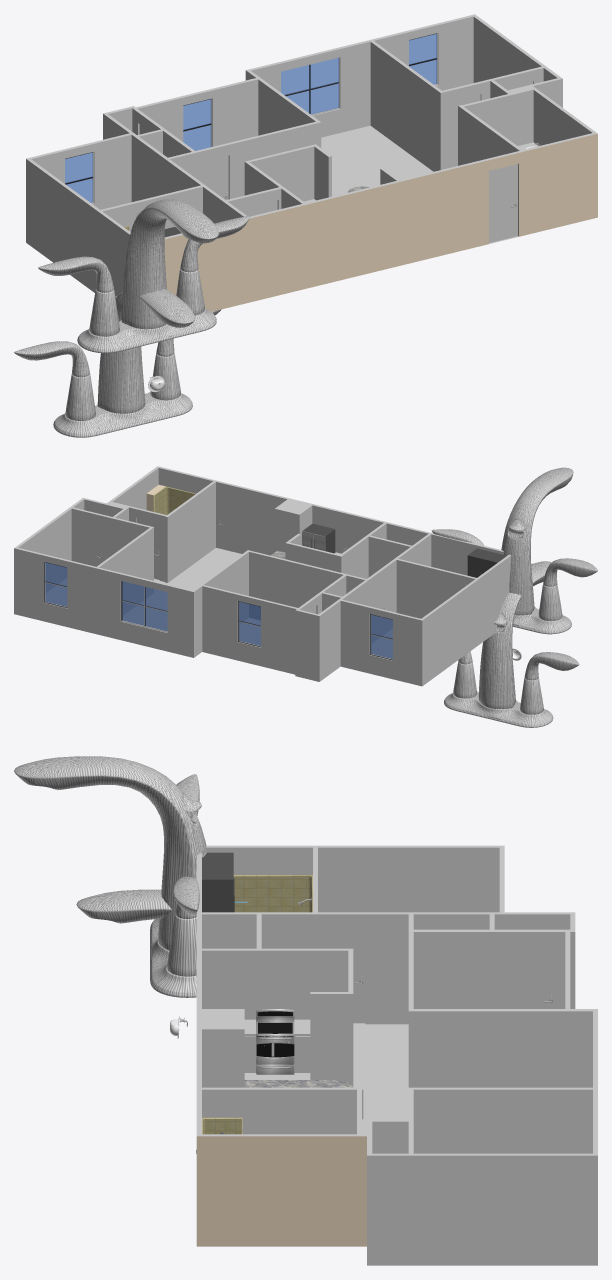
The model's file is 3+bedroom.glb.
3 views of the same model, one above another, from view 1: azimuth 30°, elevation 25°; view 2: azimuth 150°, elevation 25°; view 3: azimuth 270°, elevation 25° (orthographic). The views are drawn at different scales.
Parts seen in each view (by area): view 1: _(Loose Entity), skp9E55, 5316-4, C-Component#10, C-small window.002, C-small window, C-small window.001; view 2: _(Loose Entity), 5316-4, skp9E55, C-Component#10, C-small window.001, C-small window.002, C-small window, C-Shower, G-.013, G-Object.022; view 3: _(Loose Entity), skp9E55, C-Shower.001, 5316-4, G-.013, G-Object.018, G-Object.015, C-Shower.
Boxes of the visible parts, box(x1,y1,x2,y2) form: _(Loose Entity): box(26, 14, 597, 311); skp9E55: box(38, 199, 249, 353); 5316-4: box(14, 289, 221, 437); C-Component#10: box(280, 57, 340, 115); C-small window.002: box(183, 98, 212, 150); C-small window: box(408, 33, 438, 85); C-small window.001: box(64, 151, 94, 204); _(Loose Entity): box(14, 466, 511, 686); 5316-4: box(444, 561, 579, 727); skp9E55: box(431, 467, 597, 634); C-Component#10: box(120, 580, 167, 632); C-small window.001: box(369, 614, 393, 660); C-small window.002: box(237, 601, 261, 647); C-small window: box(44, 562, 67, 608); C-Shower: box(153, 486, 195, 514); G-.013: box(467, 548, 499, 577); G-Object.022: box(303, 523, 335, 553); _(Loose Entity): box(196, 845, 597, 1265); skp9E55: box(14, 756, 206, 997); C-Shower.001: box(233, 875, 312, 912); 5316-4: box(76, 889, 171, 923); G-.013: box(202, 861, 233, 912); G-Object.018: box(256, 1035, 294, 1064); G-Object.015: box(256, 1017, 294, 1035); C-Shower: box(202, 1117, 242, 1134).
Size of the model in its own units: 17.99 by 7.31 by 11.76.
Materials: 25 (9 with a texture image).
